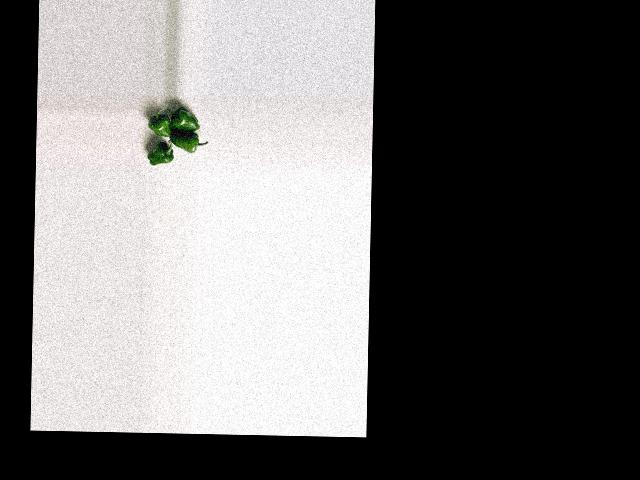bell_pepper: (148, 109, 169, 138)
